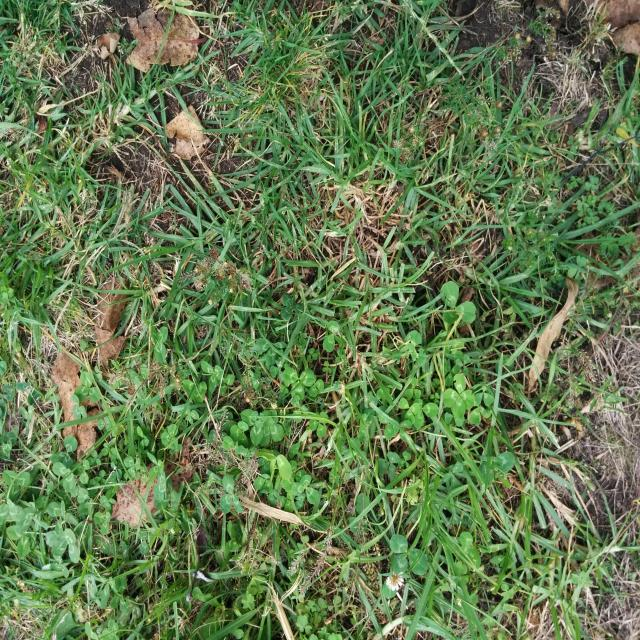Four Leaf Clover: (442, 374, 475, 419)
